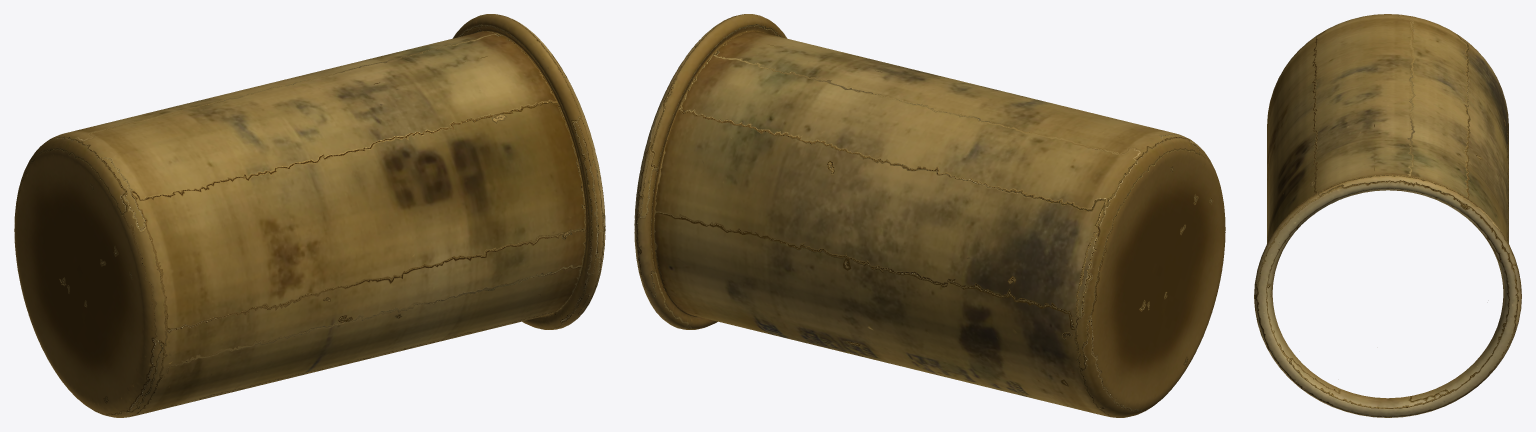
The picture shows the model from 3 angles, left to right: view 1: azimuth 30°, elevation 25°; view 2: azimuth 150°, elevation 25°; view 3: azimuth 270°, elevation 25°; orthographic projection. The views are drawn at different scales.
Bounding box in the file's own units: 1.72 × 1.07 × 1.07.
Materials: 1 (1 with a texture image).
